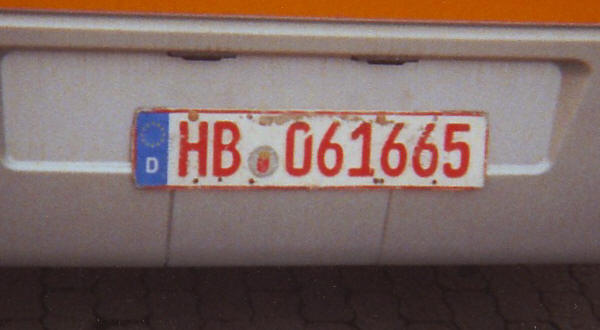license_plate: (129, 108, 489, 189)
